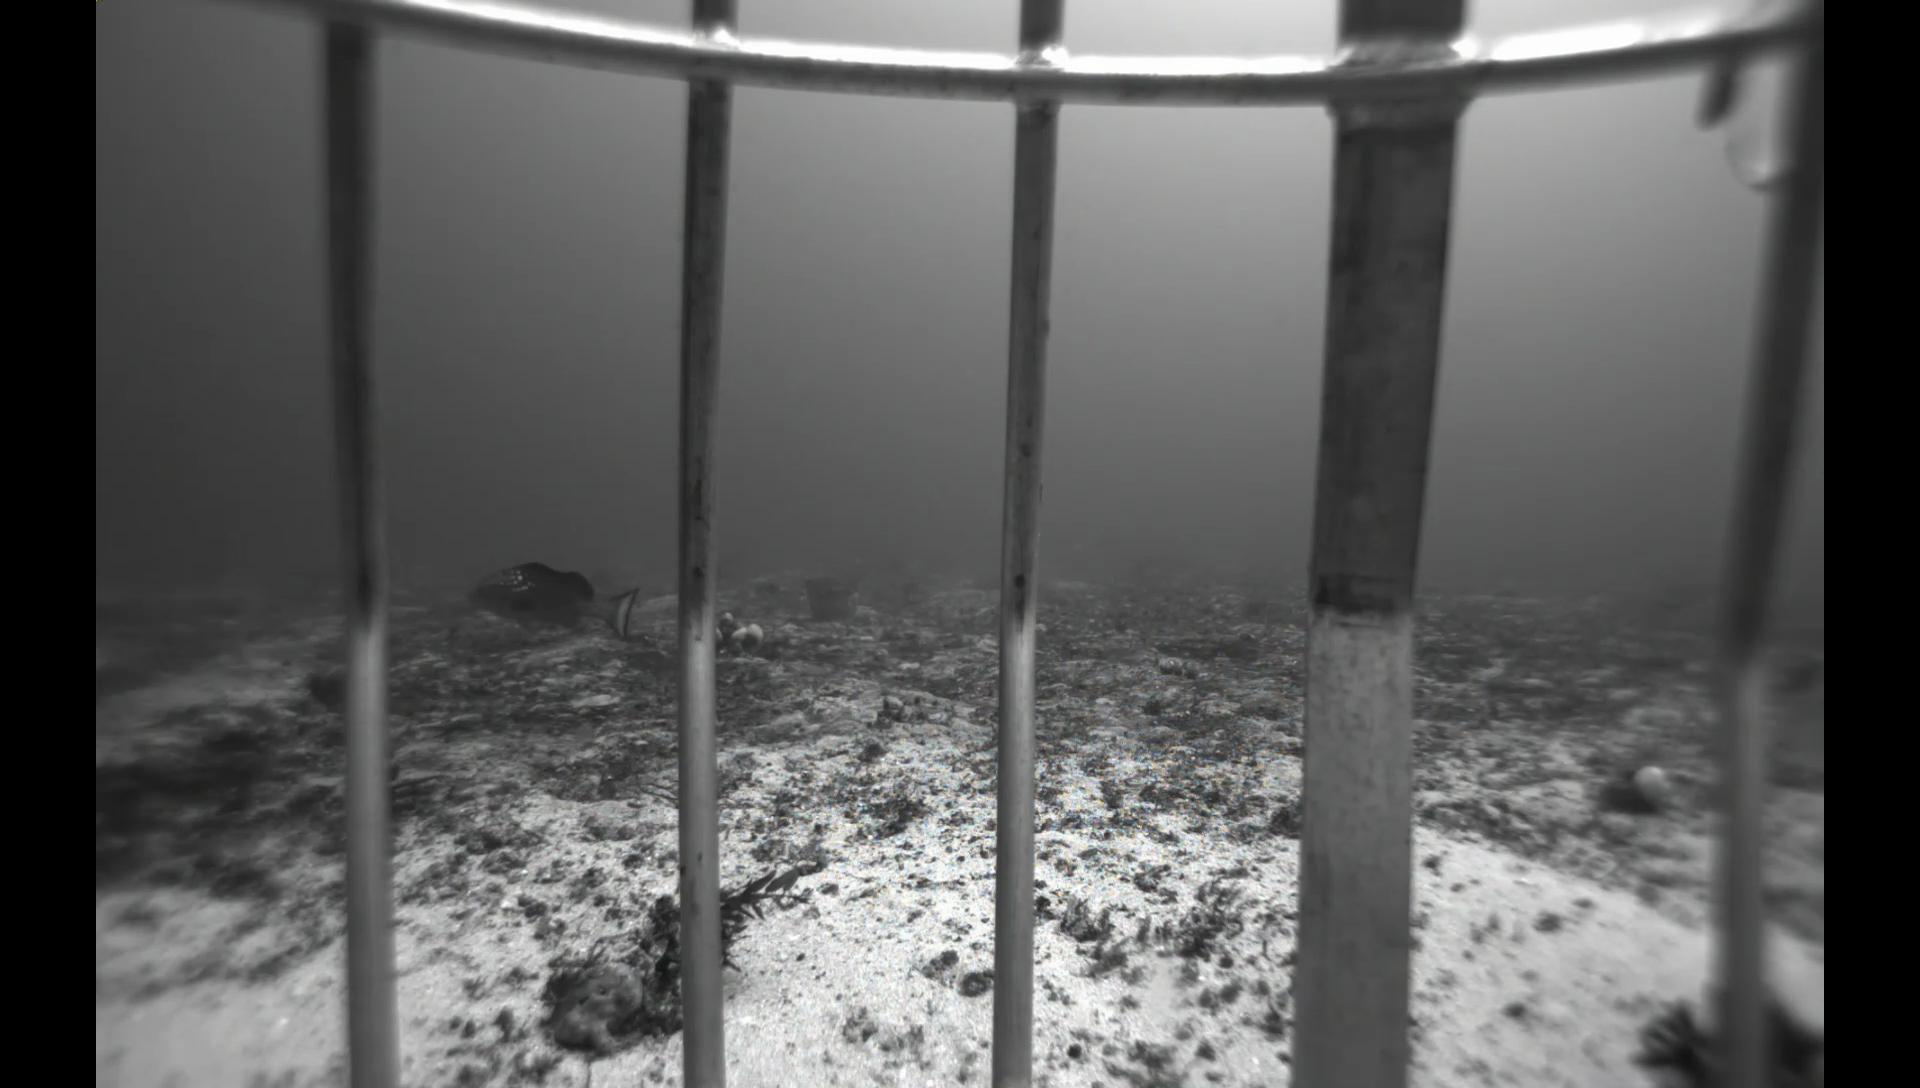CALAMUSNODOSUS-170210608: (1758, 673, 1826, 791)
EPINEPHELUSMORIO-170021211: (458, 559, 647, 650)
PRISTIGENYSALTA-170050401: (305, 661, 347, 713)
